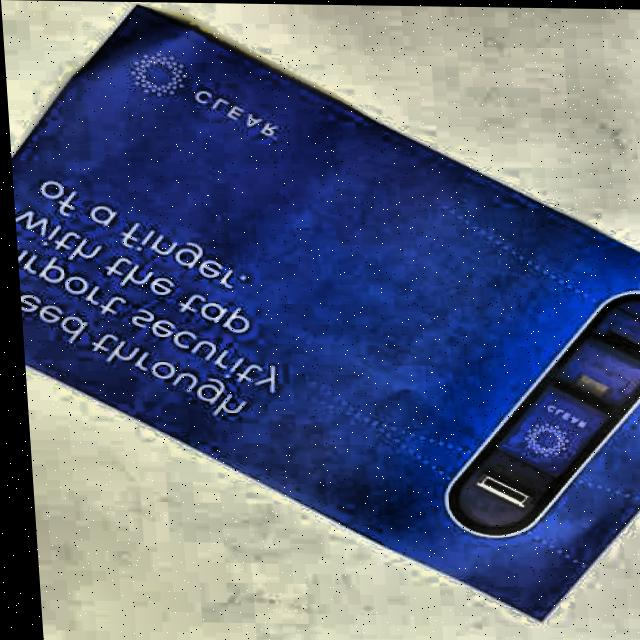paper: (0, 1, 640, 624)
